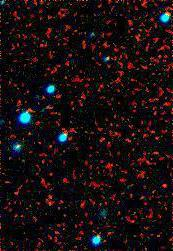star: (149, 171, 173, 201)
